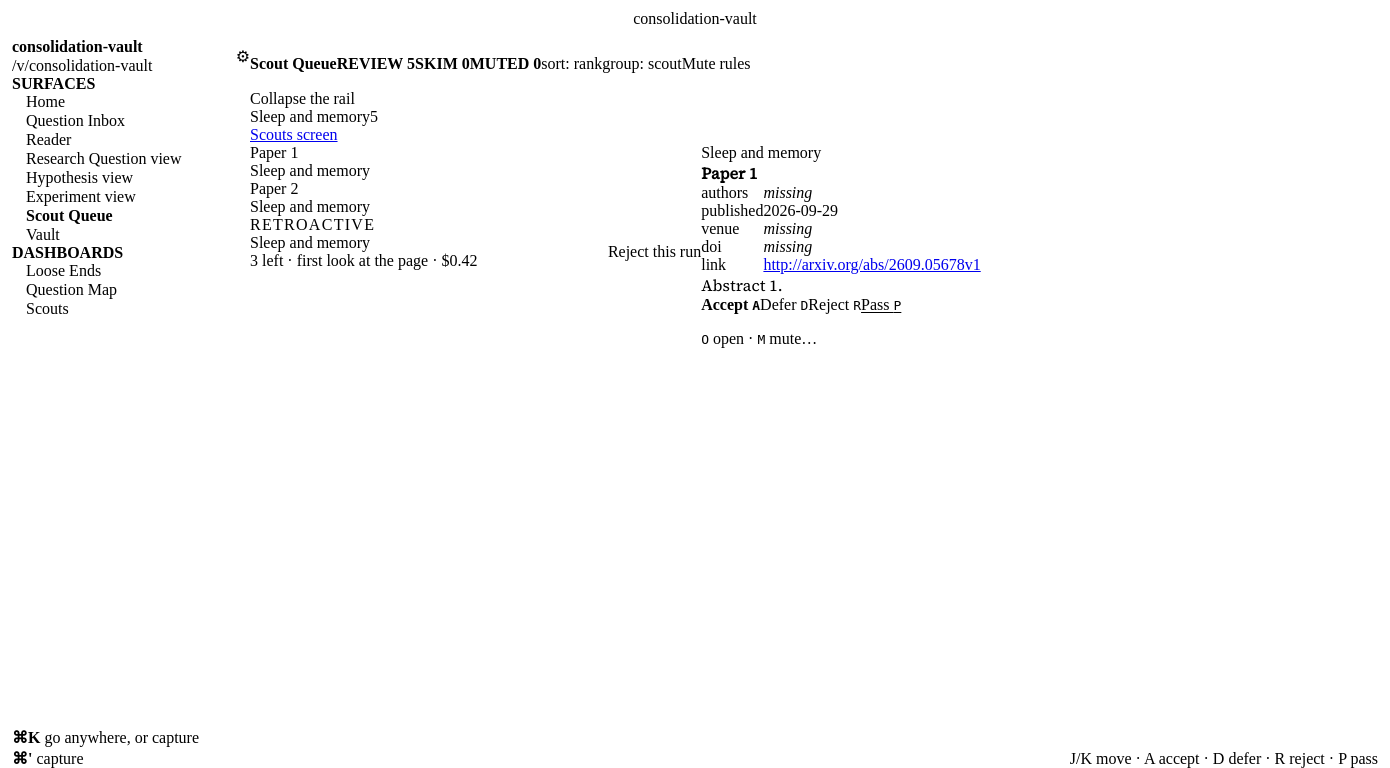
Test case: Retroactive batches › expands to its titles, and a title selects into the detail like any row
The image size is (1390, 768).
Step 1. Click the button "Sleep and memory 3 left · first look at the page · $0.42" → (429, 252), box x1=250 y1=234 x2=608 y2=270
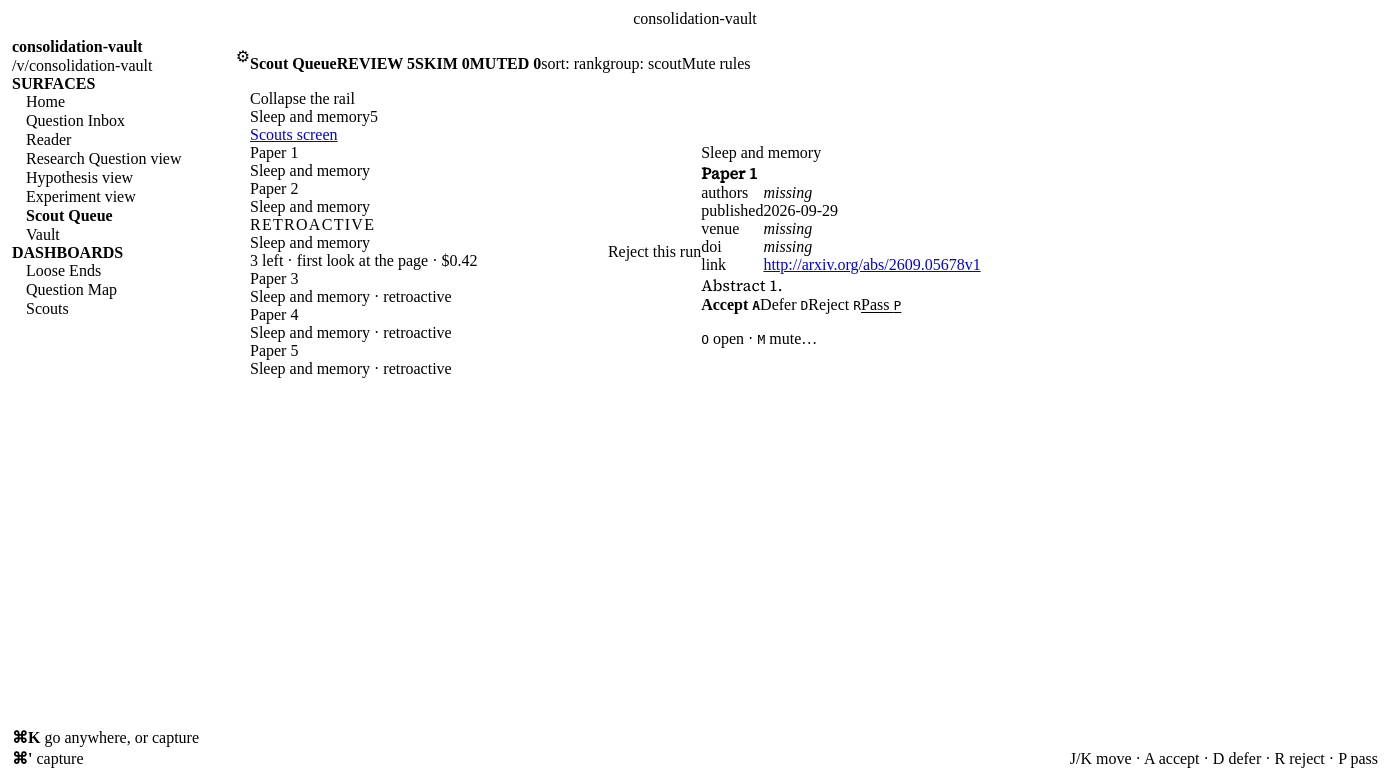
Step 2. Click the button "Paper 4 Sleep and memory · retroactive" → (274, 314), box x1=250 y1=306 x2=701 y2=342
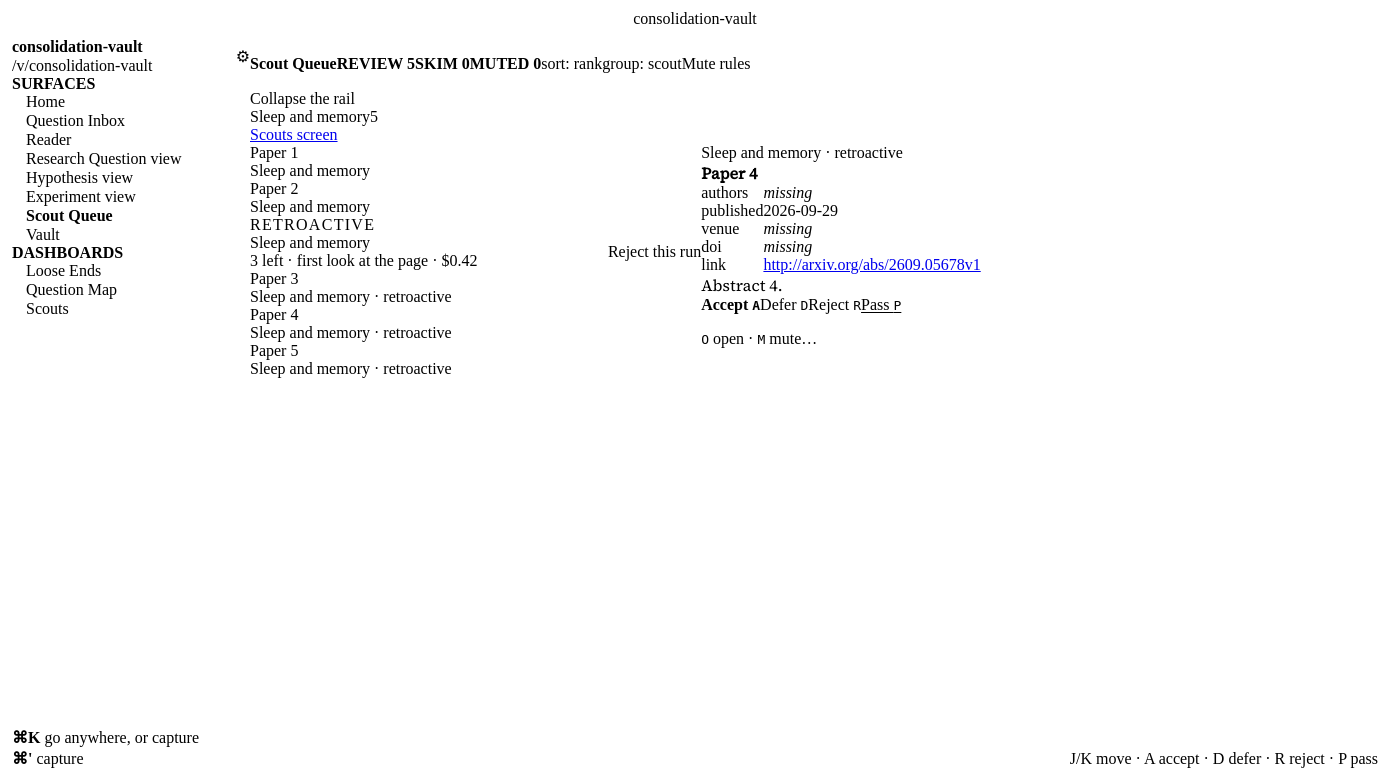
Now the element "Paper 4" shows "Abstract 4.", box x1=701 y1=274 x2=783 y2=296
